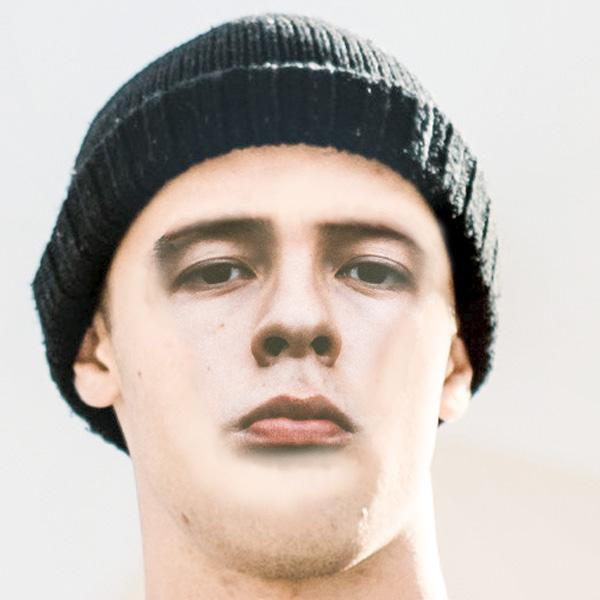Eyes: (158, 239, 272, 311), (322, 244, 423, 304)
